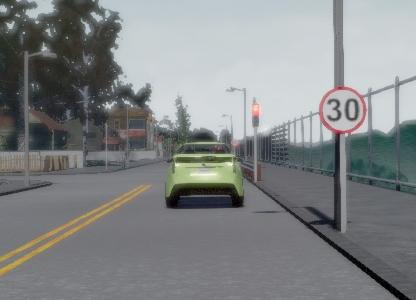Speed_30: (316, 84, 371, 136)
